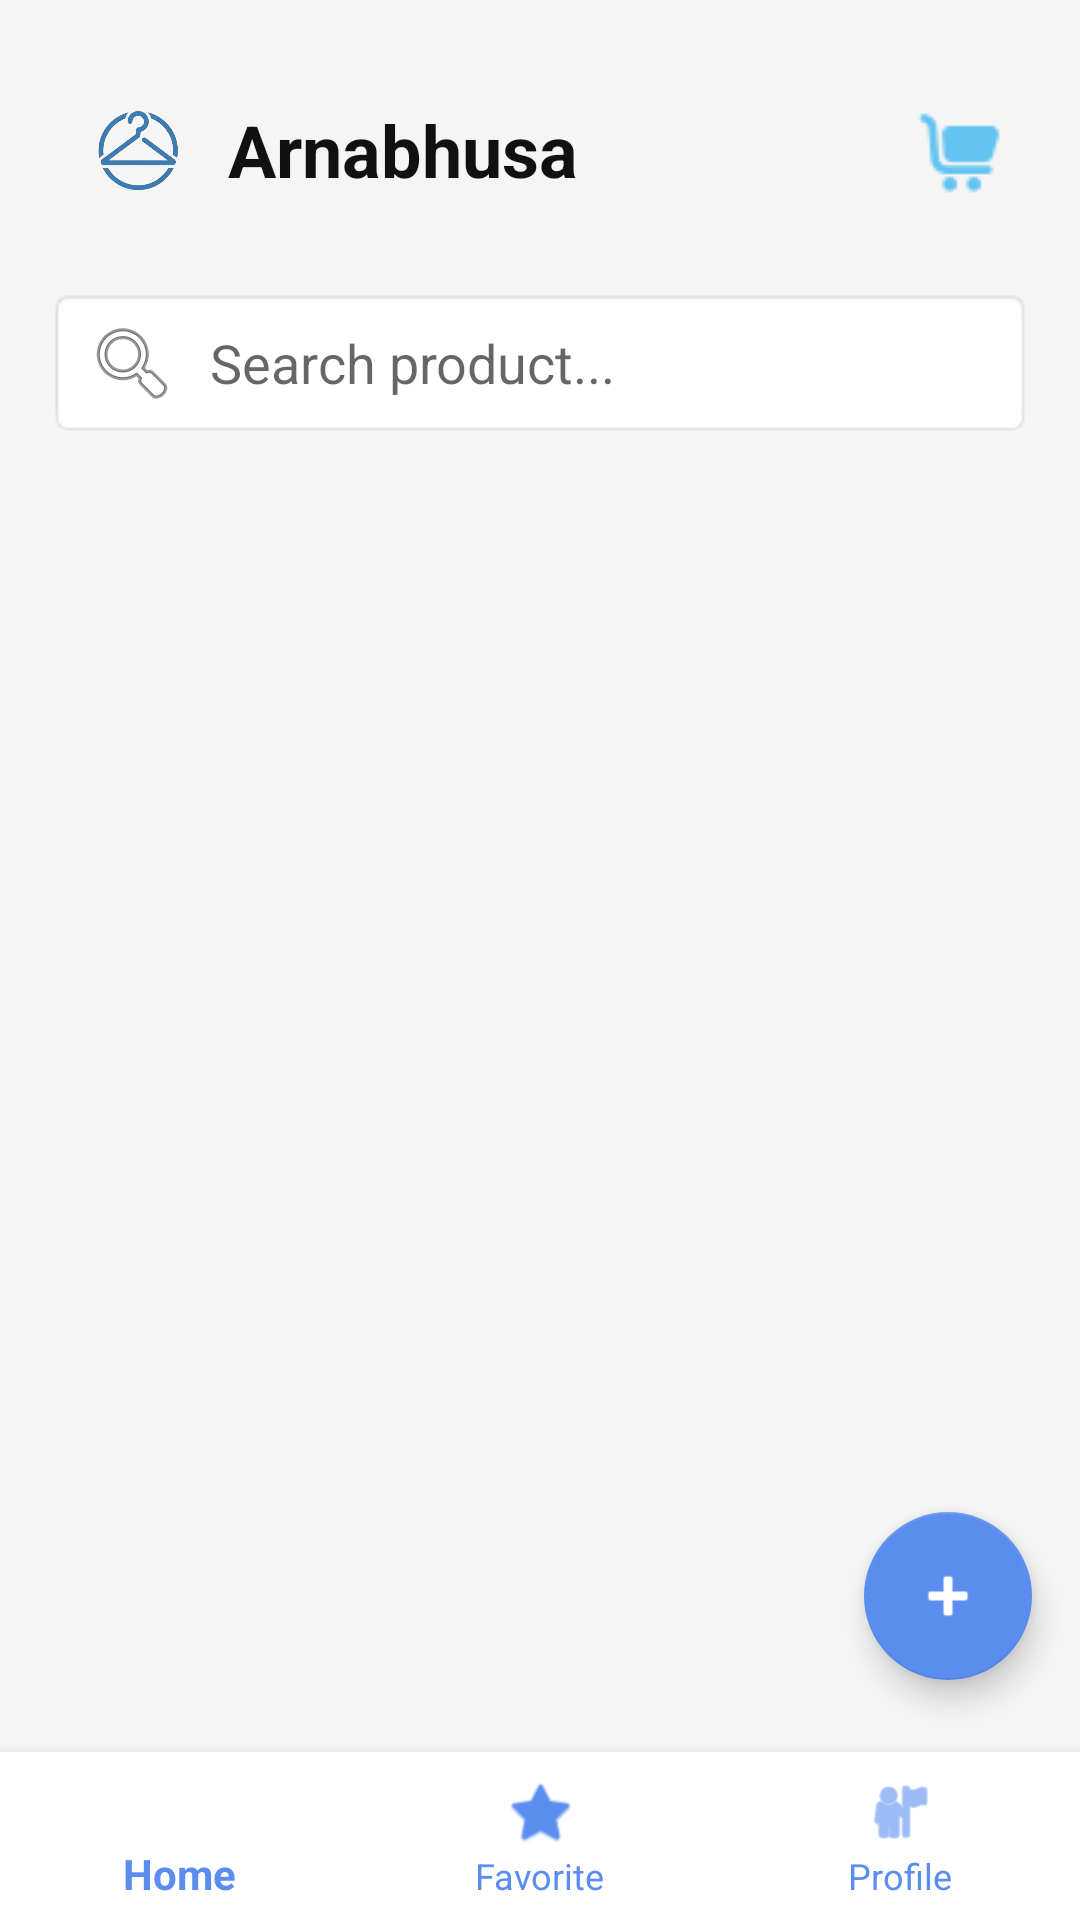

Named icons in this screenshot (1080 × 1920) and their bounding boxes, (x1, y1, x2, y2):
Cart: (919, 113, 1000, 193)
Tambah Produk: (864, 1512, 1032, 1680)
